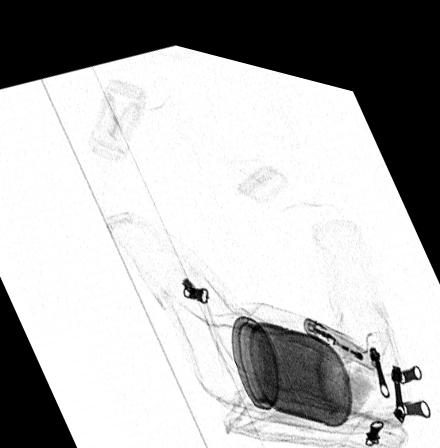Lighter: (301, 302, 374, 353)
